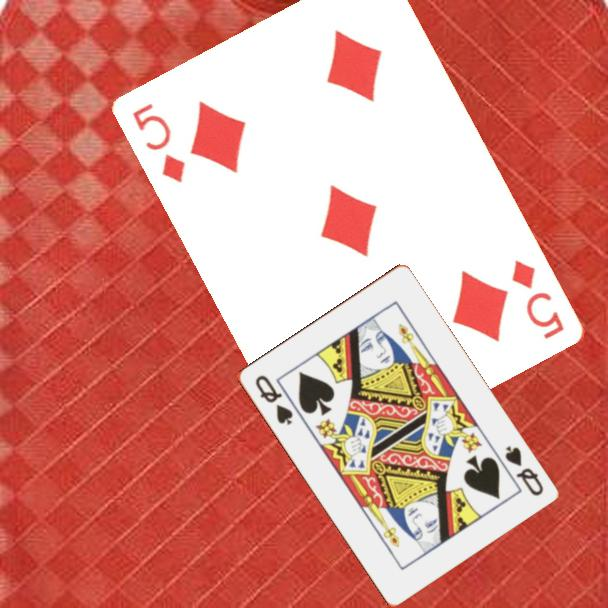d05: (129, 99, 189, 186), (509, 256, 568, 343)
s12: (501, 442, 546, 499), (251, 371, 295, 428)
